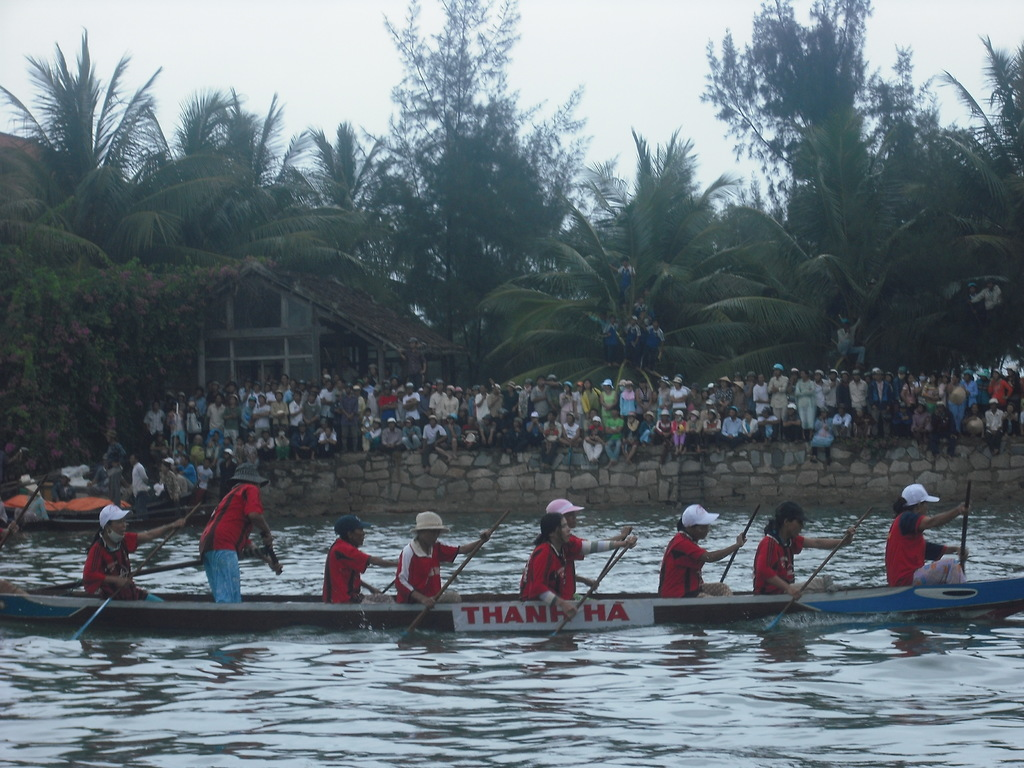Tree: (0, 0, 1023, 479)
